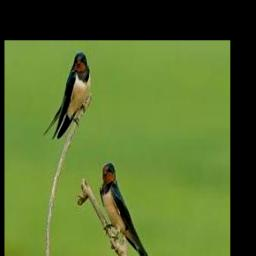Swallow: (100, 162, 154, 256), (44, 52, 92, 140)
